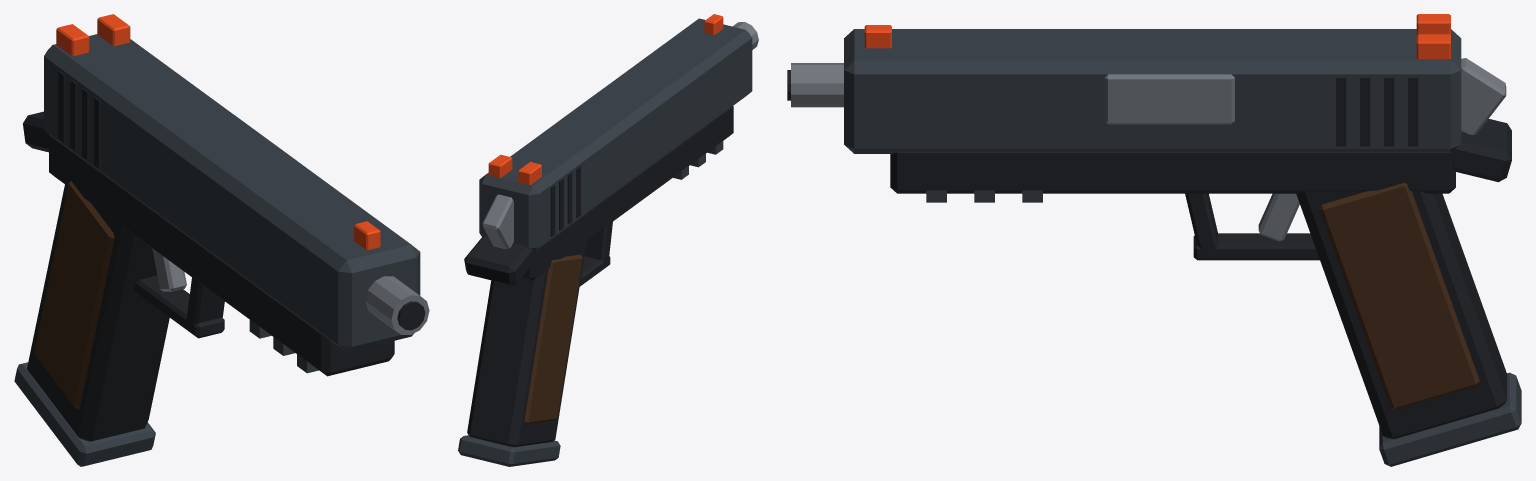
Rendered from Pistol.obj.
The picture shows the model from 3 angles, left to right: view 1: azimuth 30°, elevation 25°; view 2: azimuth 150°, elevation 25°; view 3: azimuth 270°, elevation 25°; orthographic projection. The views are drawn at different scales.
Parts seen in each view (by area): view 1: Pistol; view 2: Pistol; view 3: Pistol.
Boxes of the visible parts, box(x1,y1,x2,y2) form: Pistol: box(14, 14, 429, 466); Pistol: box(458, 14, 758, 466); Pistol: box(787, 14, 1521, 466).
Size of the model in its own units: 0.2975 by 1.36 by 2.14.
